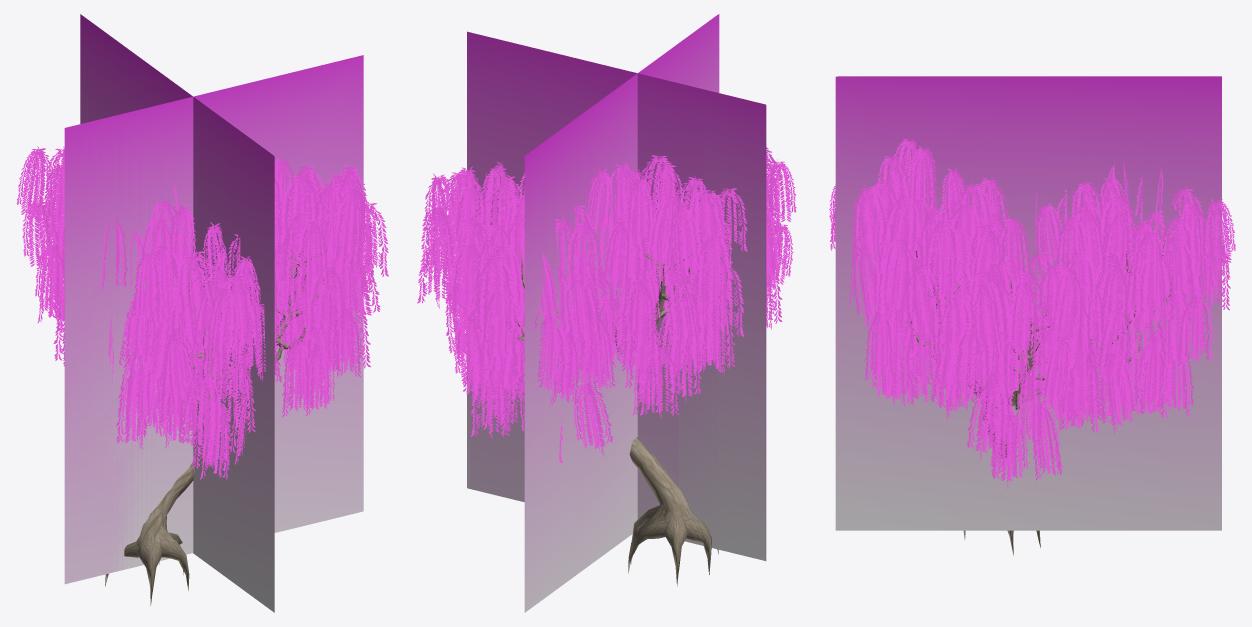
The model's file is FAE_Willow_A.fbx.
3 renders of one model, left to right at view 1: azimuth 30°, elevation 25°; view 2: azimuth 150°, elevation 25°; view 3: azimuth 270°, elevation 25°, orthographic.
Parts seen in each view (by area): view 1: FAE_Willow_A_Billboard, FAE_Willow_A_LOD0; view 2: FAE_Willow_A_Billboard, FAE_Willow_A_LOD0; view 3: FAE_Willow_A_Billboard, FAE_Willow_A_LOD0.
Boxes of the visible parts, left/top/right/bottom form: FAE_Willow_A_Billboard: left=64, top=14, right=363, bottom=612; FAE_Willow_A_LOD0: left=16, top=146, right=388, bottom=605; FAE_Willow_A_Billboard: left=467, top=14, right=766, bottom=612; FAE_Willow_A_LOD0: left=417, top=144, right=796, bottom=585; FAE_Willow_A_Billboard: left=835, top=76, right=1221, bottom=530; FAE_Willow_A_LOD0: left=829, top=138, right=1235, bottom=555.
Size of what is drawn, in the model's own units: 1868 by 2730 by 2114.
3 materials, 2 textured.
